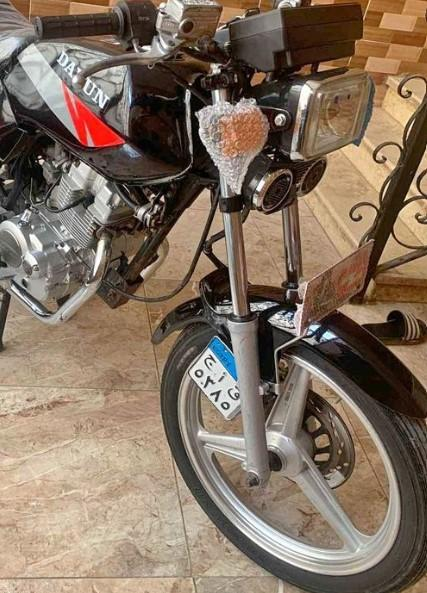License Plate: (186, 331, 244, 416)
